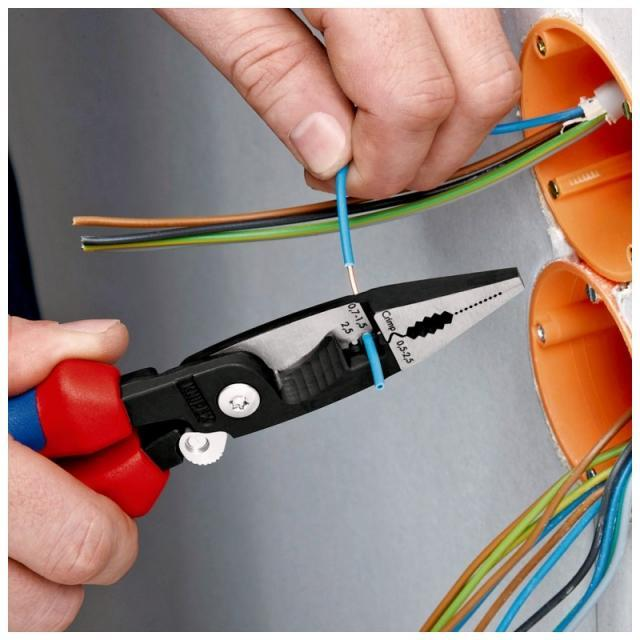pliers: (10, 260, 532, 518)
